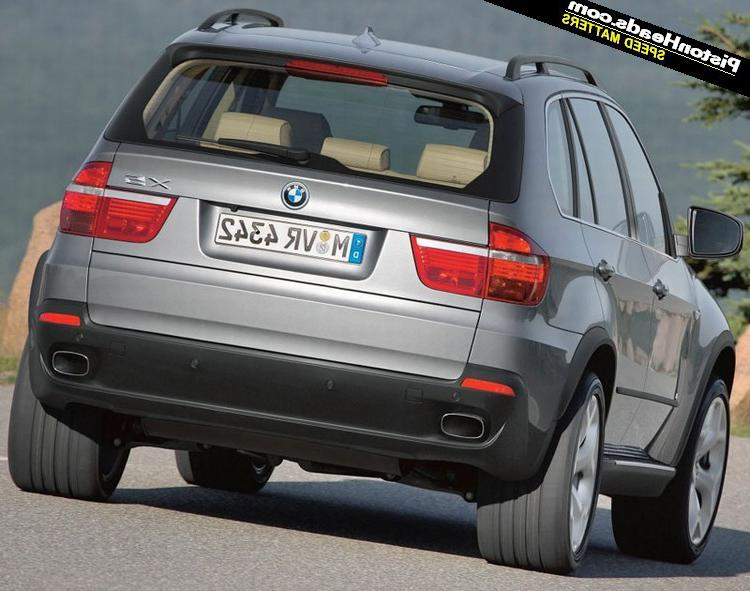Car: (1, 15, 749, 590)
